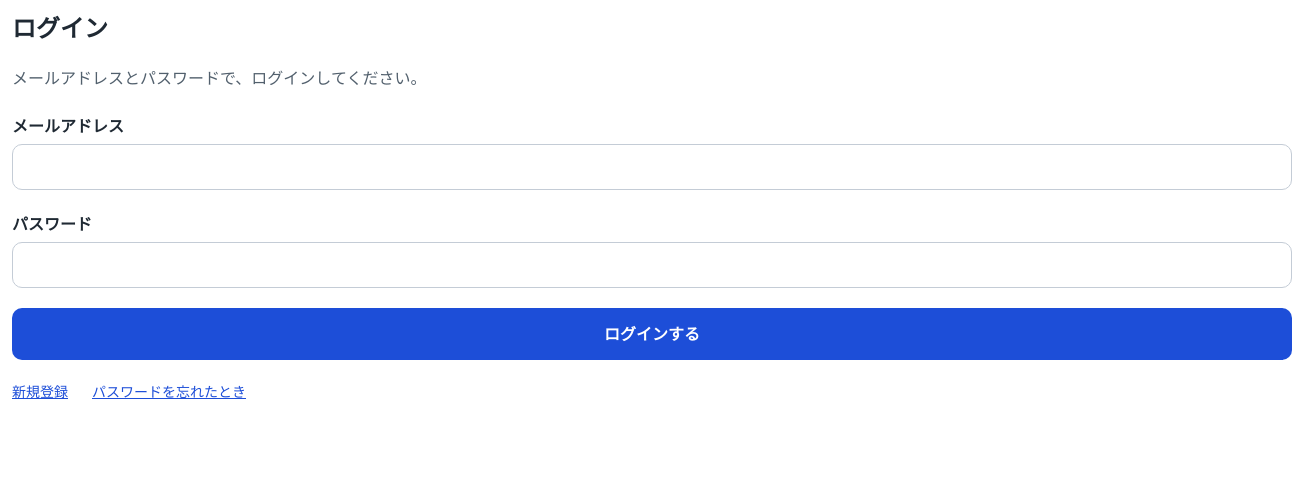
Test case: LoginForm › 認証に失敗すると_固定の文言を出し_移動しない
Type "user@example.com" into the field labelled "メールアドレス". click: x=652, y=167
box: [12,144,1292,190]
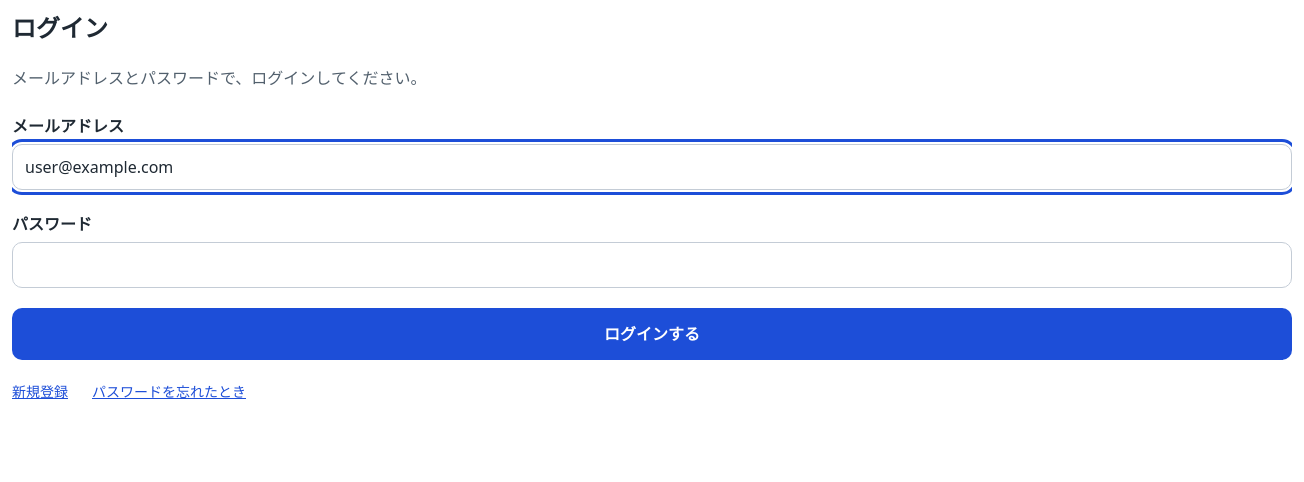
Type "wrong" into the password field labelled "パスワード". click: x=652, y=265
box: [12,242,1292,288]
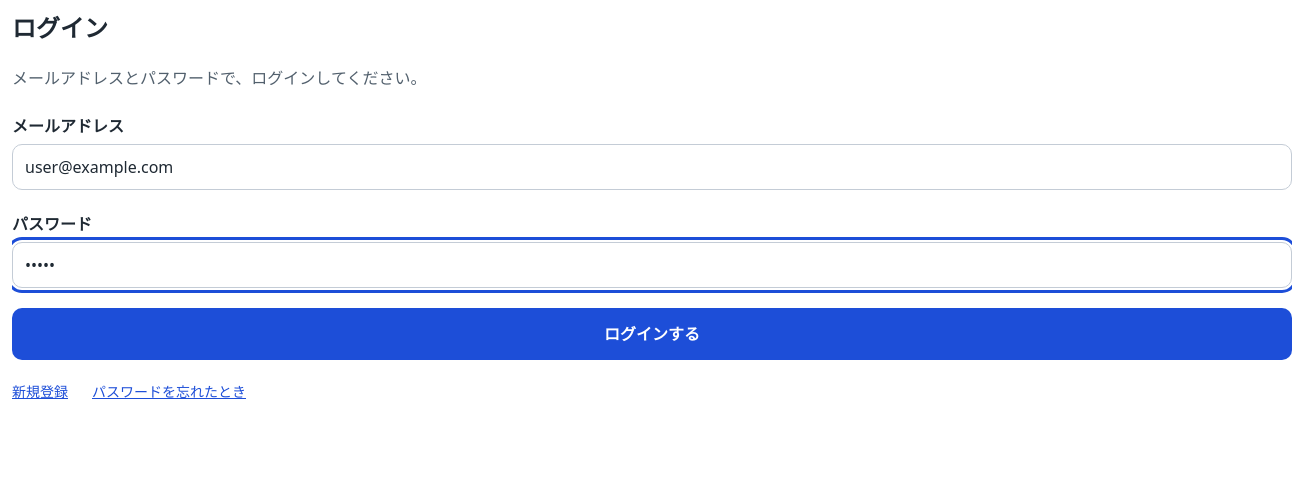
Click the button "ログインする". click: x=652, y=334
box: [12,308,1292,360]
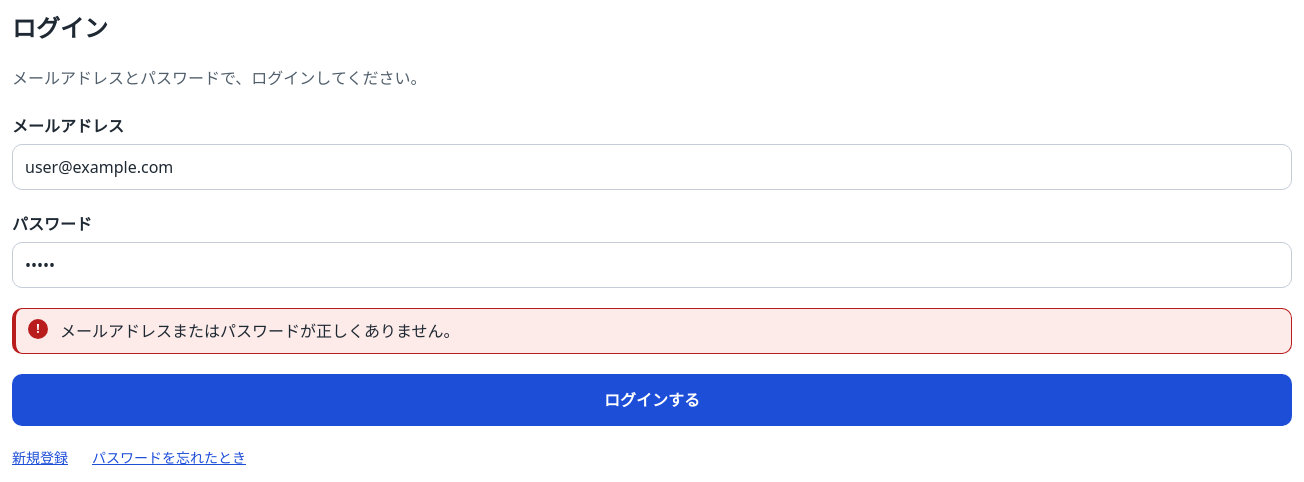
expect the message shows "正しくありません": met, box [60,320,460,342]
